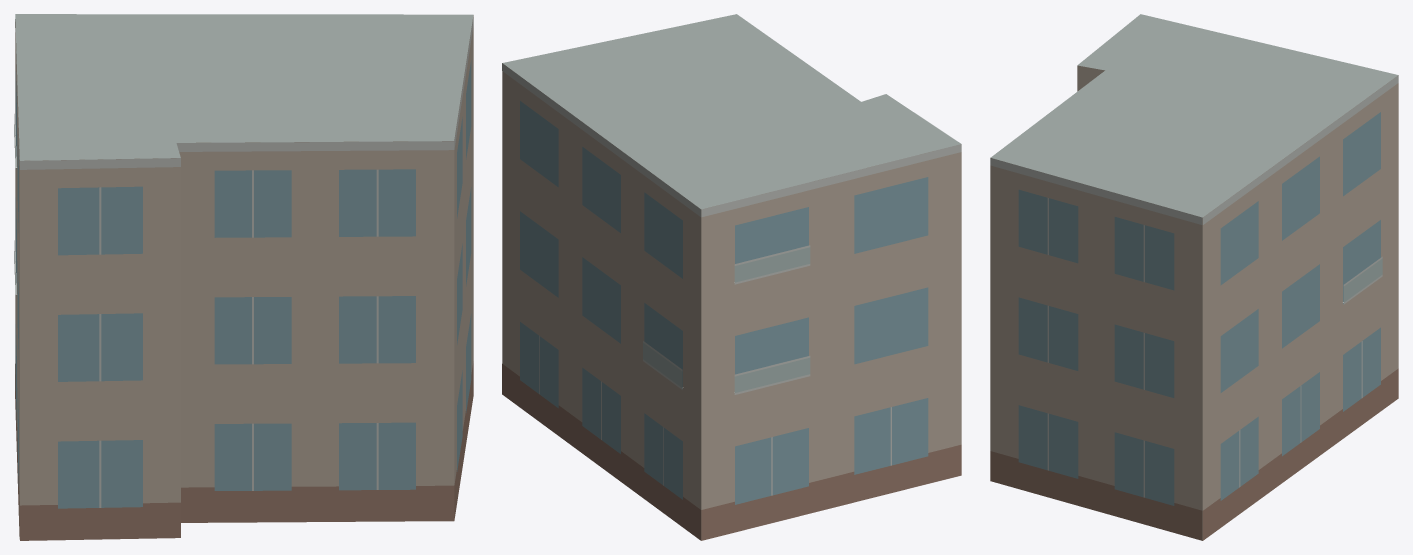
File: survey-upis-32671376.glb
The picture shows the model from 3 angles, left to right: view 1: azimuth 30°, elevation 25°; view 2: azimuth 150°, elevation 25°; view 3: azimuth 270°, elevation 25°; orthographic projection. The views are drawn at different scales.
Visible parts, largest first — view 1: survey-upis-32671376.tmp; view 2: survey-upis-32671376.tmp; view 3: survey-upis-32671376.tmp.
Boxes of the visible parts, x1=… form: survey-upis-32671376.tmp: x1=14, y1=14, x2=473, y2=540; survey-upis-32671376.tmp: x1=502, y1=14, x2=961, y2=540; survey-upis-32671376.tmp: x1=990, y1=14, x2=1398, y2=540.
Bounding box in the file's own units: 13.78 × 10.2 × 11.68.
